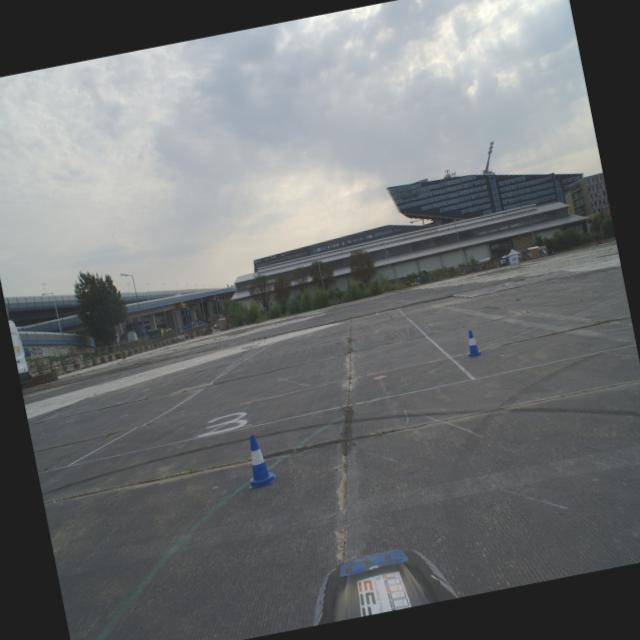blue_cone: (240, 432, 278, 489), (462, 328, 484, 358)
